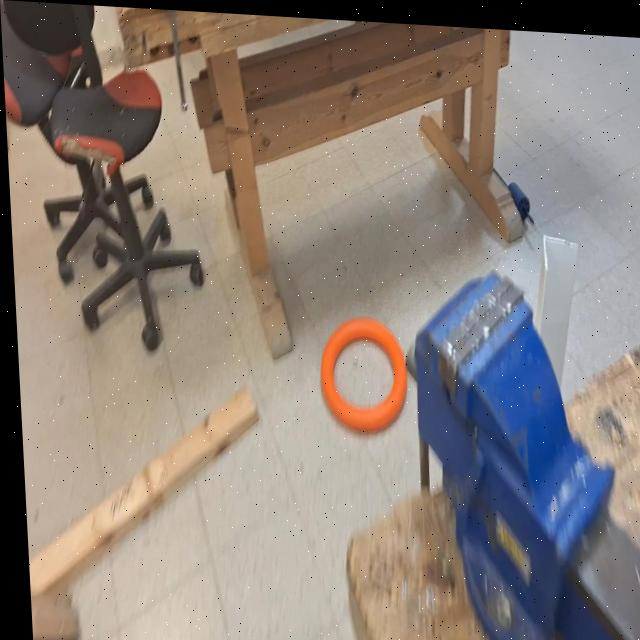note: (313, 307, 408, 433)
